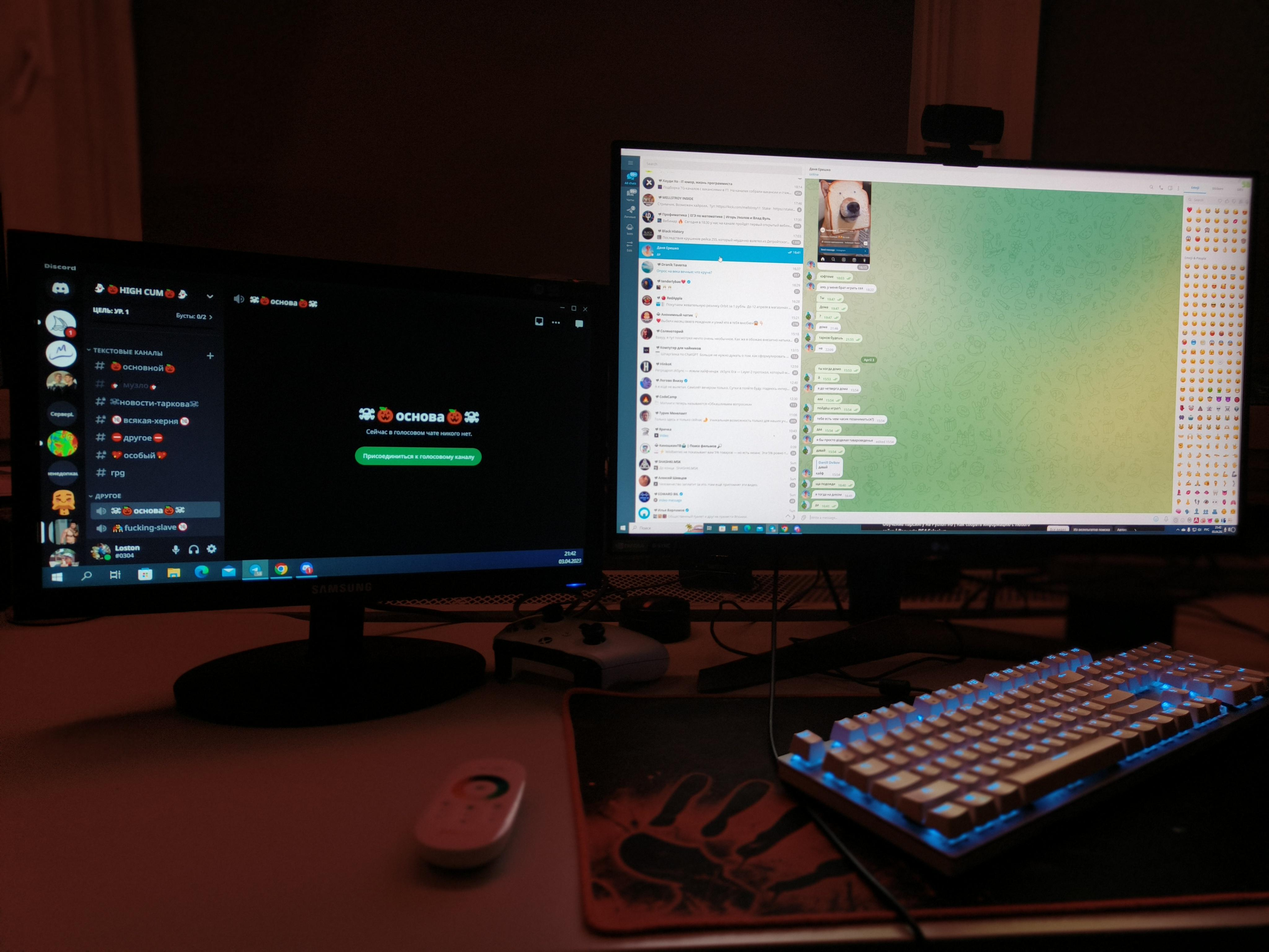monitor: (606, 132, 1269, 581), (2, 229, 621, 621)
